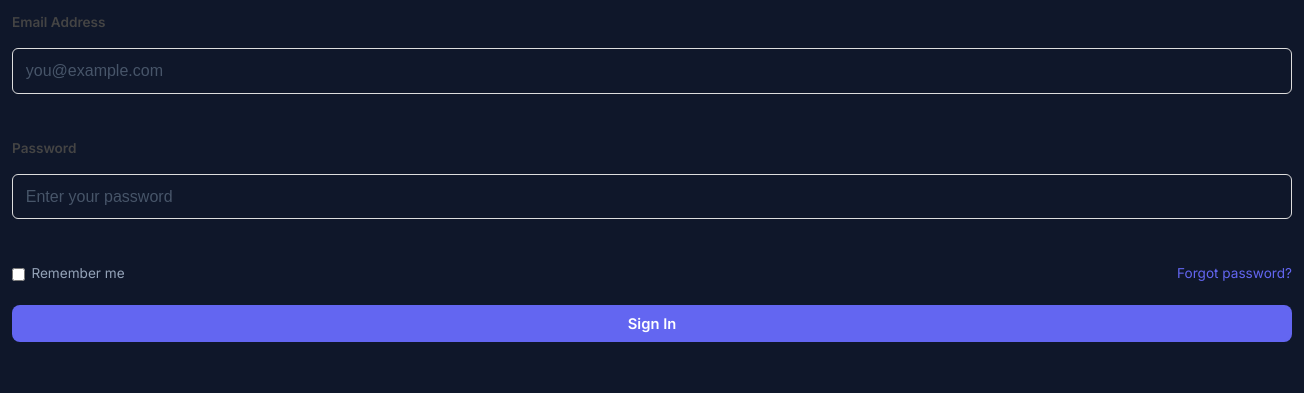
Scenario: LoginForm — interaction tests › shows an error when only the email is filled in
Step 1. Type "alice@example.com" into the field labelled "Email Address" → (652, 71), box [12,48,1292,94]
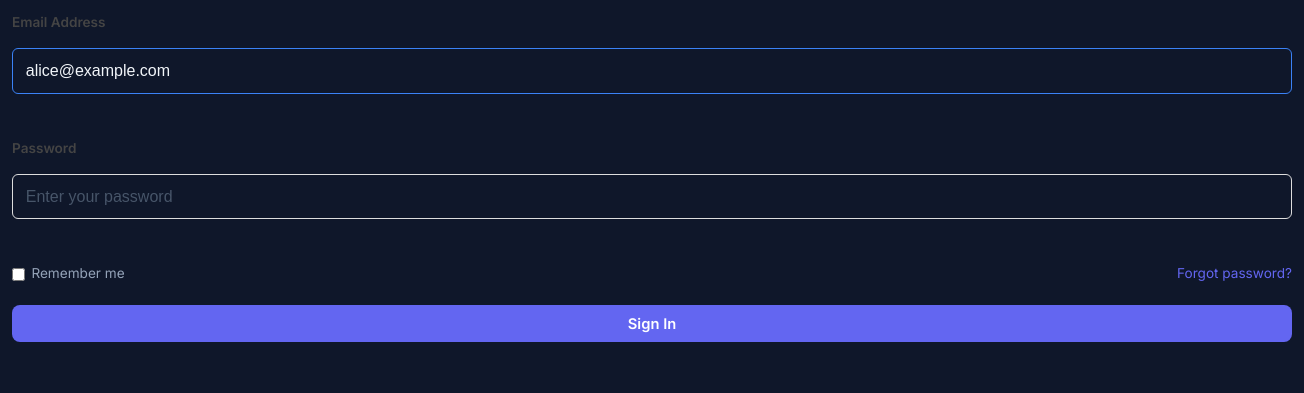
Step 2. Click the button "Sign In" → (652, 324), box [12,305,1292,342]
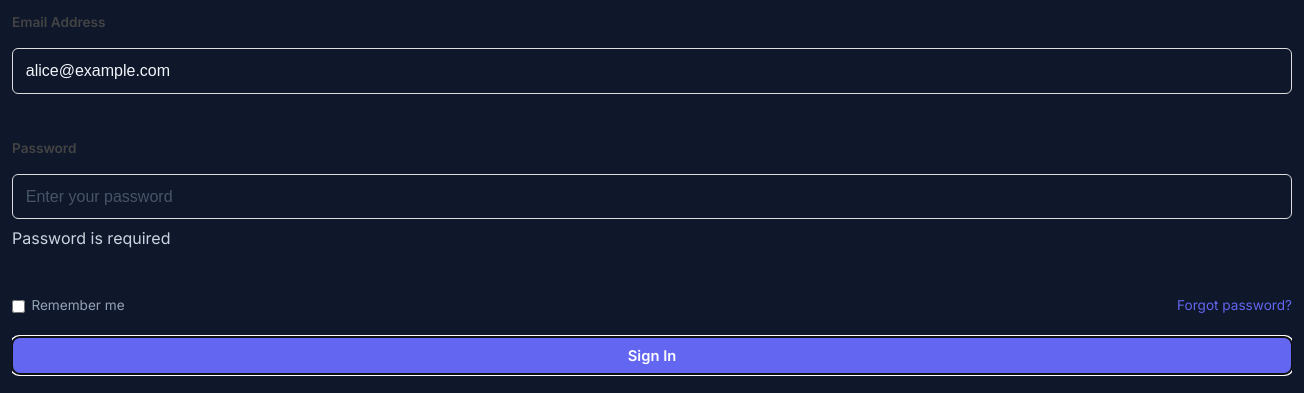
Expected: the text "Password is required" is shown, [12,228,170,248]
